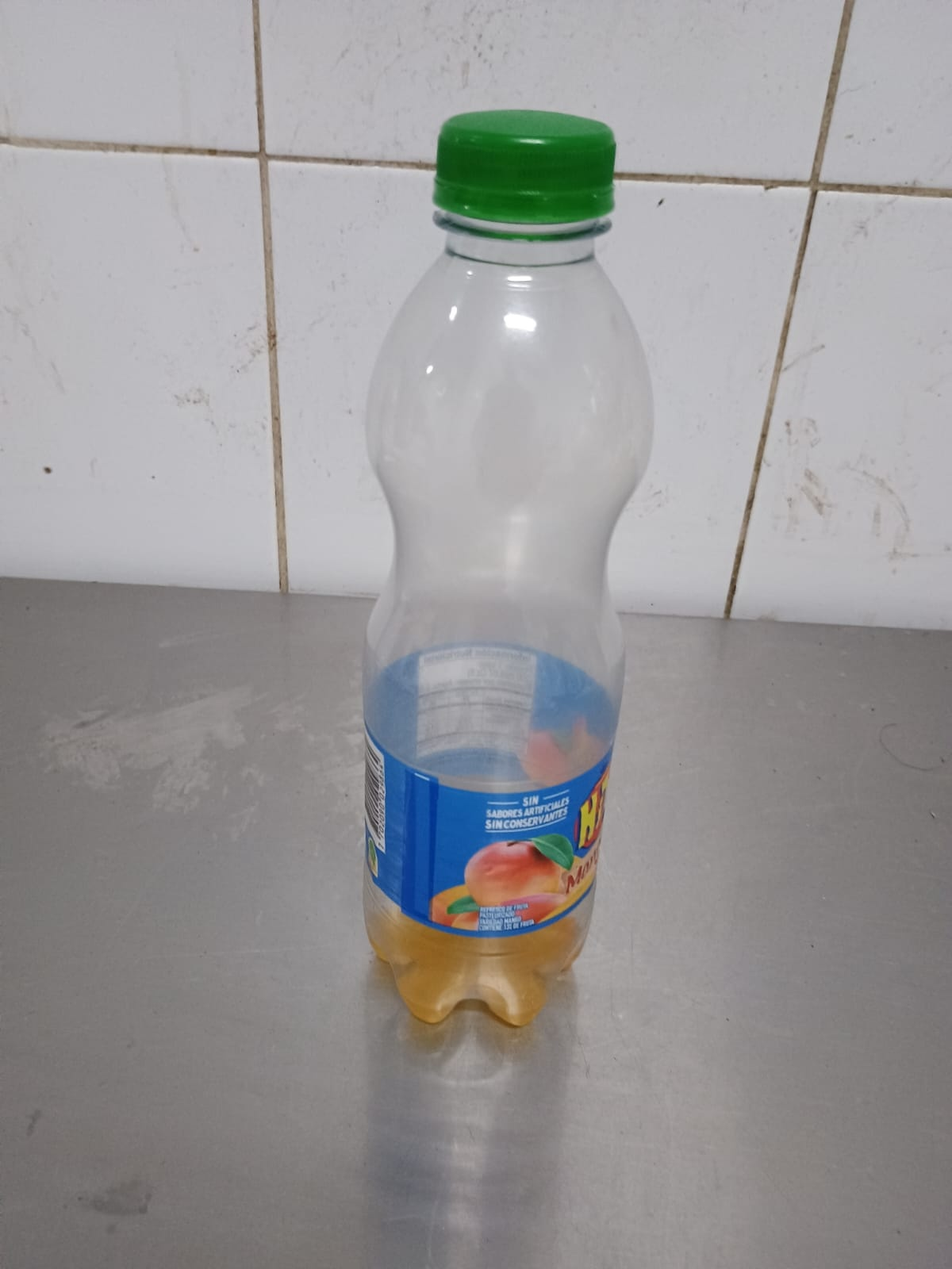Plastico: (365, 110, 655, 1023)
